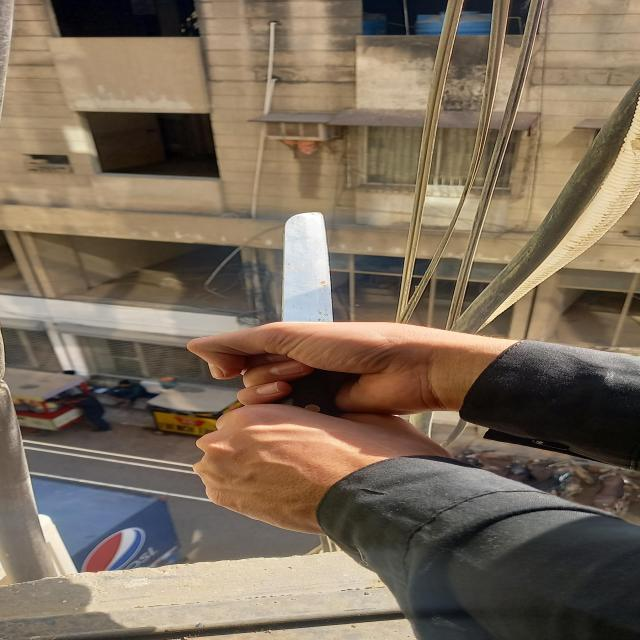faca: (286, 211, 336, 416)
